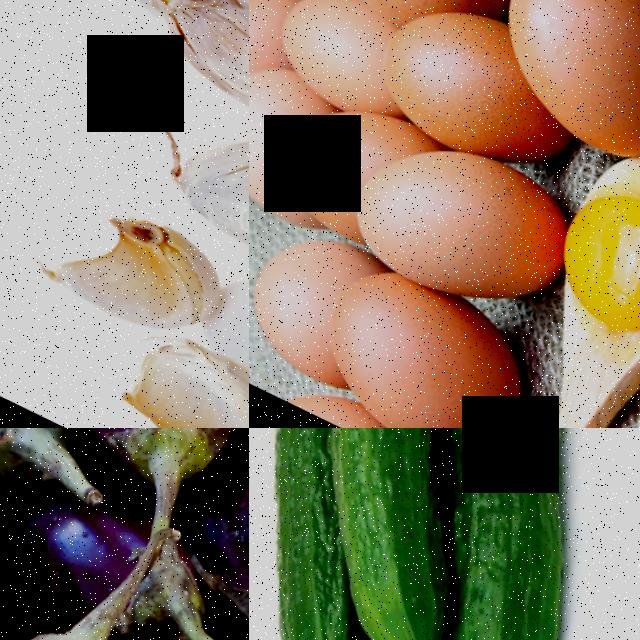cucumber: (249, 428, 536, 640), (389, 428, 640, 640)
egg_: (343, 110, 583, 330), (298, 246, 556, 428), (467, 0, 640, 176), (364, 0, 528, 150), (268, 84, 406, 242), (249, 217, 361, 377), (540, 161, 640, 335), (263, 0, 403, 106), (249, 55, 317, 211), (249, 0, 292, 95)
eggplant: (36, 428, 249, 507)
garlic: (34, 178, 237, 351), (79, 0, 249, 185), (148, 77, 249, 291), (110, 319, 249, 428)
